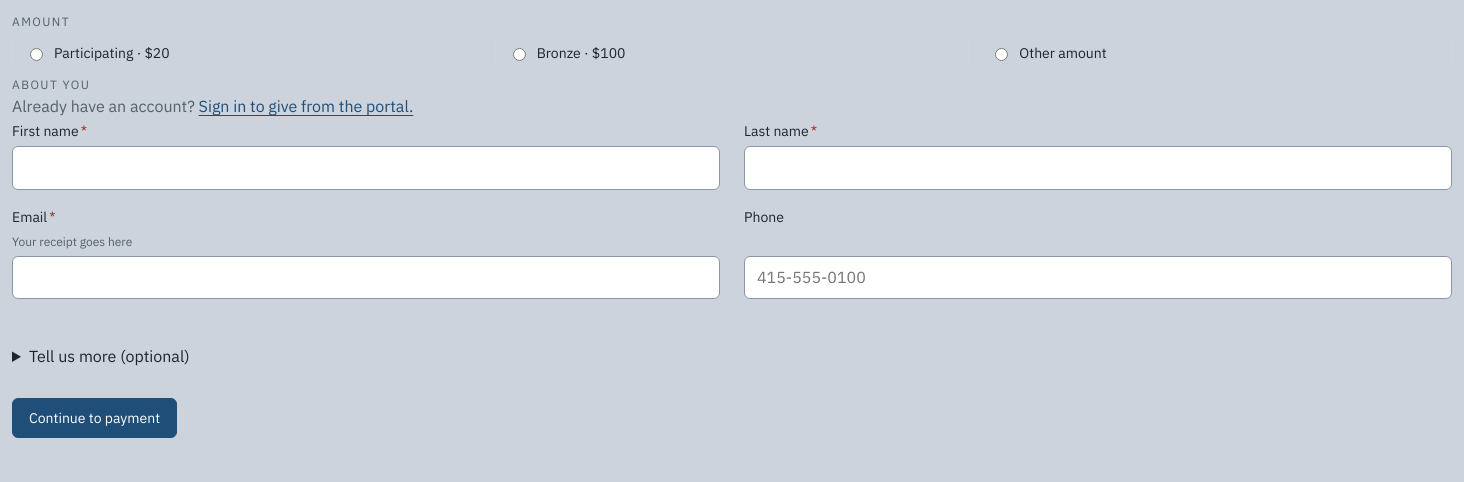
DonationForm › refuses to continue without a ten-digit phone number
Click the radio button labelled "Bronze · $100" at (519, 55), box x1=513 y1=48 x2=526 y2=61
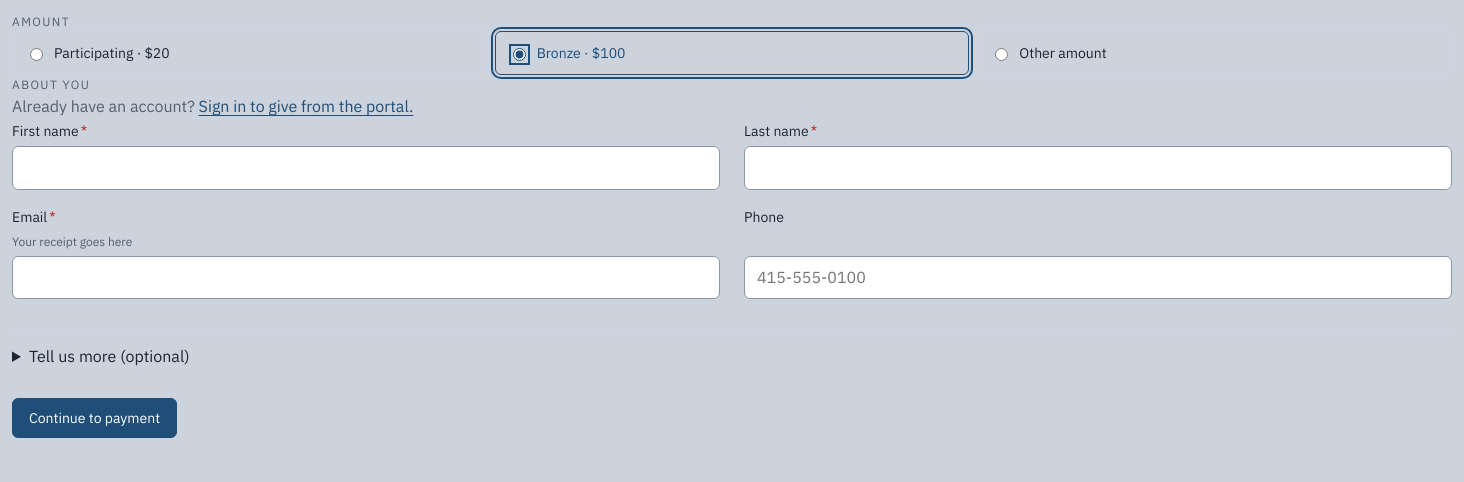
Type "Pat" into the field labelled "First name*" at (366, 168), box x1=12 y1=146 x2=720 y2=190
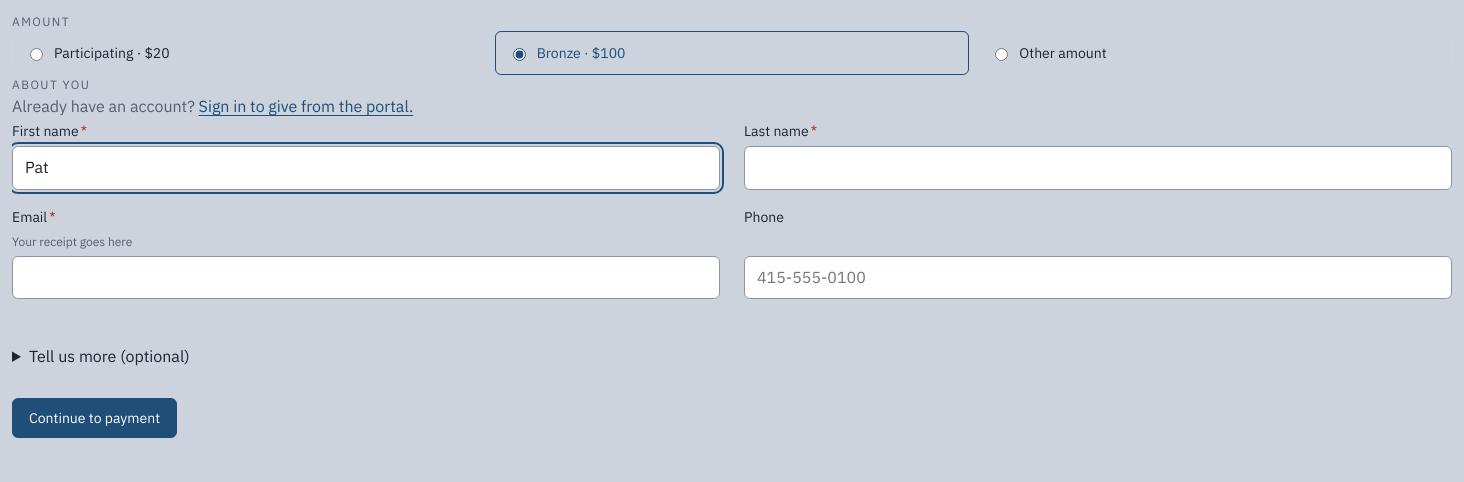
Type "Giver" into the field labelled "Last name*" at (1098, 168), box x1=744 y1=146 x2=1452 y2=190
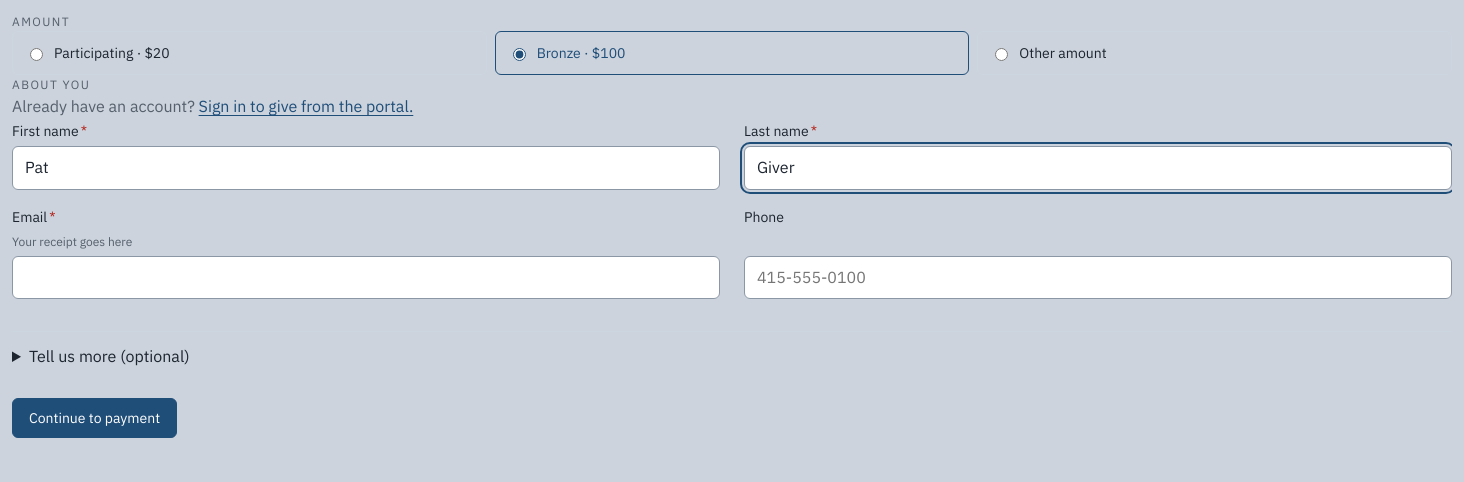
Type "pat@example.org" into the field labelled "Email*" at (366, 277), box x1=12 y1=256 x2=720 y2=299
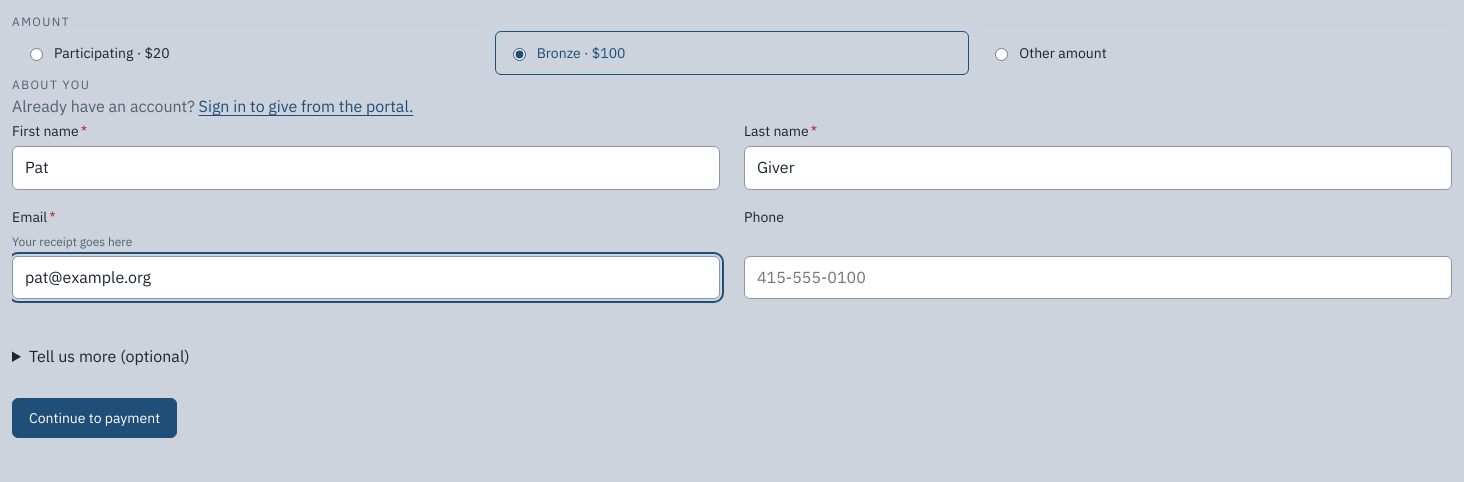
Type "4155550100" into the field labelled "Phone" at (1098, 277), box x1=744 y1=256 x2=1452 y2=299
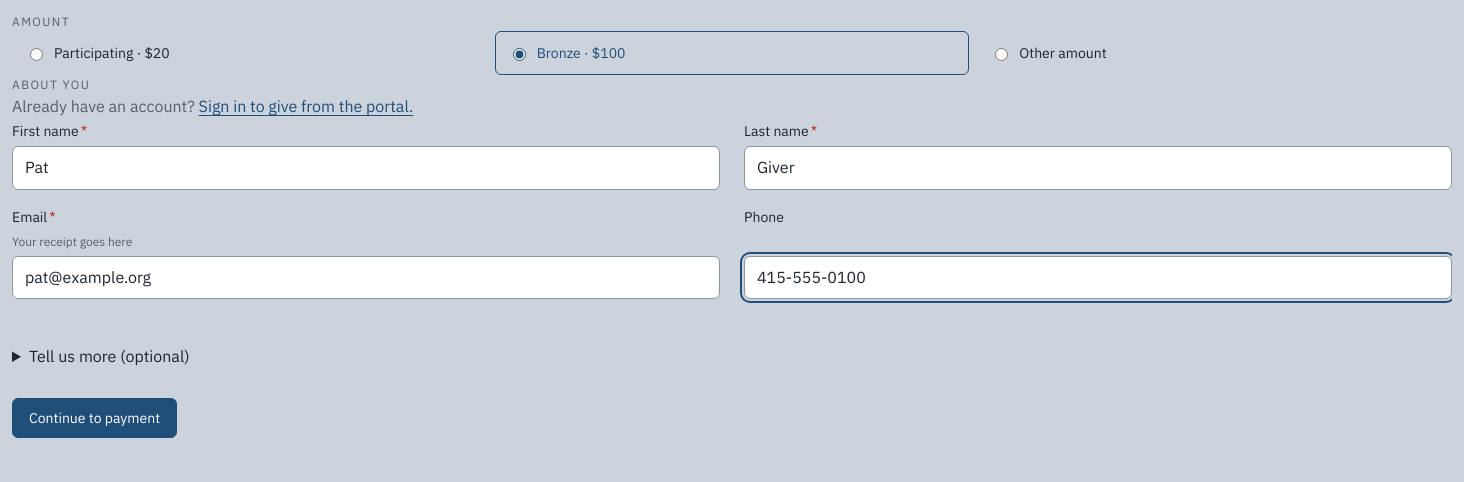
Type "555" into the field labelled "Phone" at (1098, 277), box x1=744 y1=256 x2=1452 y2=299
Click the button "Continue to payment" at (95, 418), box x1=12 y1=398 x2=177 y2=438
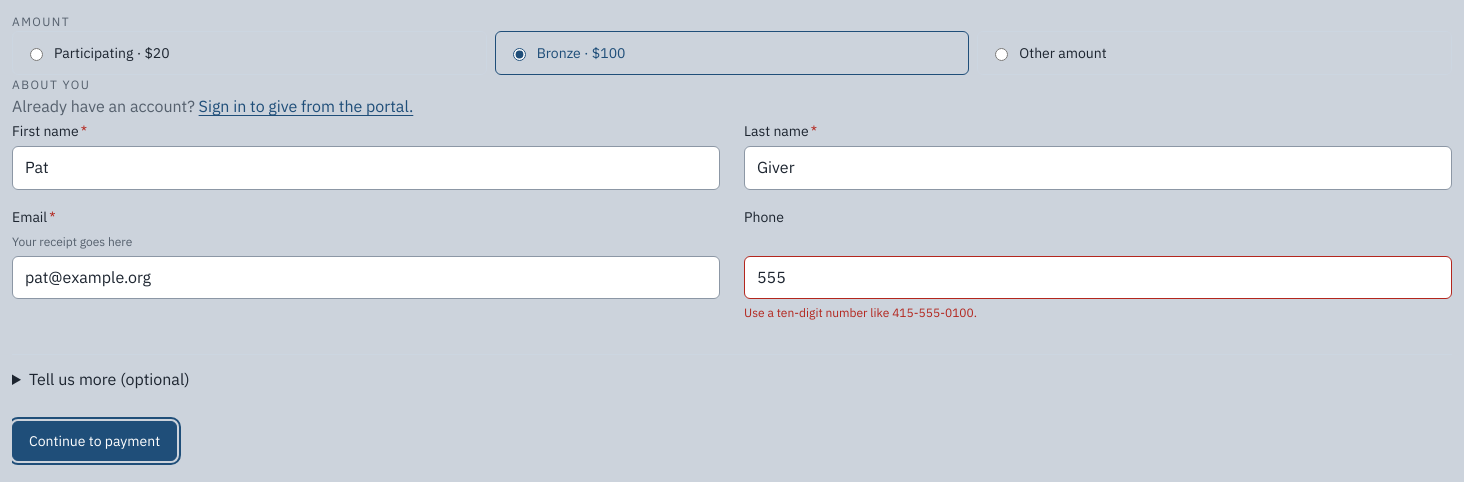
Check: the text "Use a ten-digit number like 415-555-0100." is shown, box x1=744 y1=305 x2=977 y2=320
